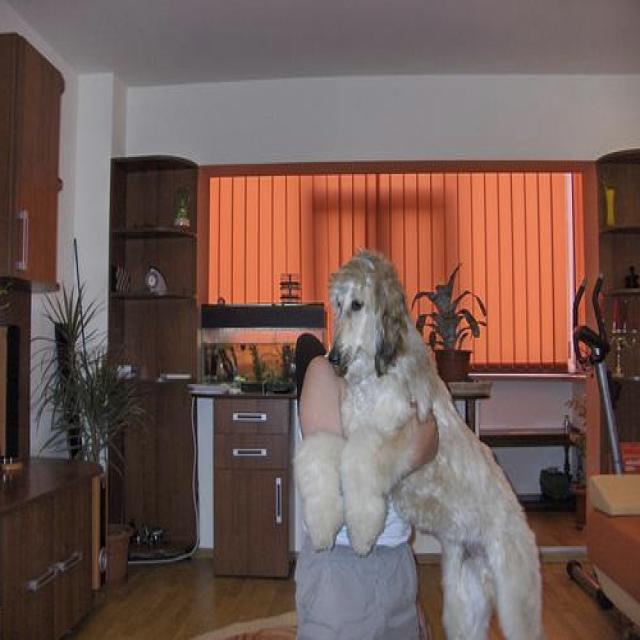afghan_hound: (292, 249, 540, 638)
